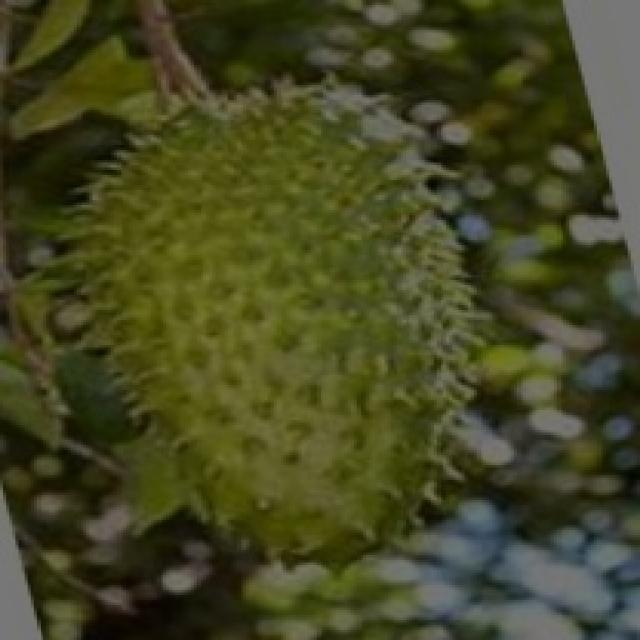fruit: (0, 30, 366, 462), (12, 245, 363, 640), (141, 0, 341, 112)
